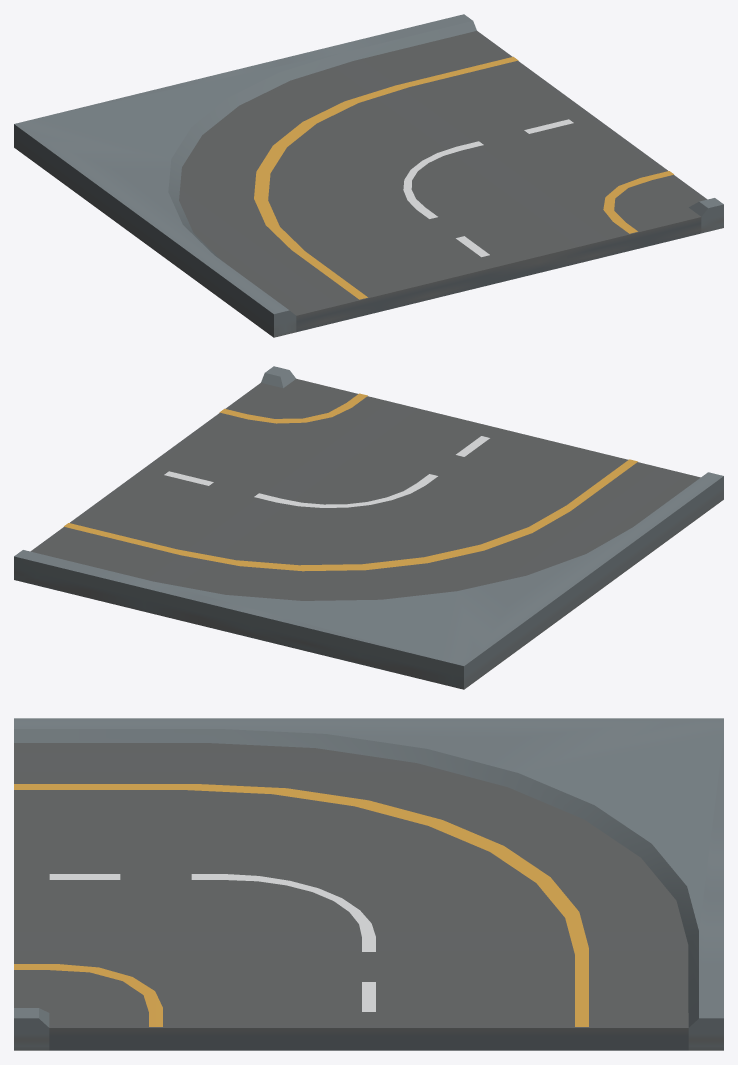
File: road_corner_curved.gltf
3 views of the same model, one above another, from view 1: azimuth 30°, elevation 25°; view 2: azimuth 150°, elevation 25°; view 3: azimuth 270°, elevation 25° (orthographic). The views are drawn at different scales.
Visible parts, largest first — view 1: road_corner_curved; view 2: road_corner_curved; view 3: road_corner_curved.
Boxes of the visible parts, x1,y1,x2,y2 form: road_corner_curved: (14, 14, 723, 337); road_corner_curved: (14, 366, 723, 689); road_corner_curved: (14, 718, 723, 1050).
Bounding box in the file's own units: 2 × 0.1 × 2.
Materials: 1 (1 with a texture image).
